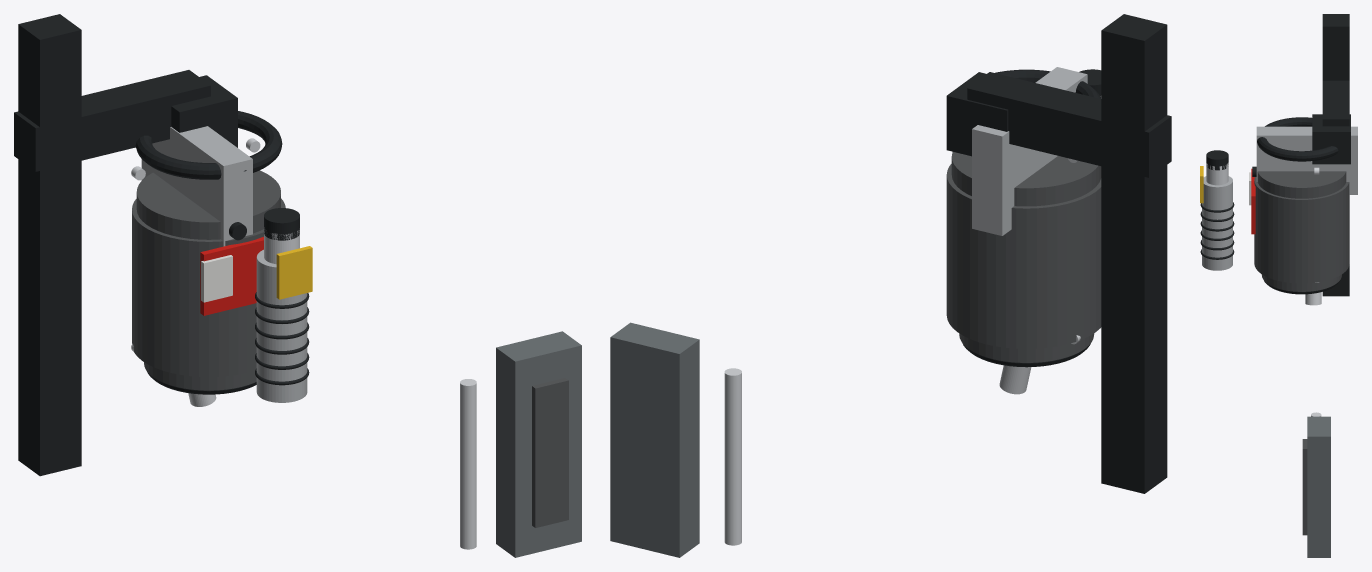
The picture shows the model from 3 angles, left to right: view 1: azimuth 30°, elevation 25°; view 2: azimuth 150°, elevation 25°; view 3: azimuth 270°, elevation 25°; orthographic projection. The views are drawn at different scales.
Visible parts, largest first — view 1: Wall Mount Vertical, Motor Body, Accessory Box, Wall Mount Horizontal, Motor Side Handle, Box Inner Component, Handpiece Body, Motor Top, Motor Top Ring, Tool Holder Rod, Motor Hook, Red Motor Label (+5 smaller); view 2: Wall Mount Vertical, Motor Body, Accessory Box, Wall Mount Horizontal, Motor Side Handle, Motor Top, Tool Holder Rod, Motor Hook, Motor Bottom, Handpiece Tip, Motor Top Ring; view 3: Motor Body, Accessory Box, Motor Side Handle, Handpiece Body, Wall Mount Vertical, Motor Top, Motor Hook, Wall Mount Horizontal, Motor Top Ring, Motor Bottom, Box Inner Component, Handpiece Neck (+2 smaller).
Boxes of the visible parts, x1,y1,x2,y2 form: Wall Mount Vertical: [18, 14, 81, 476]; Motor Body: [132, 198, 285, 377]; Accessory Box: [496, 331, 581, 557]; Wall Mount Horizontal: [14, 70, 210, 171]; Motor Side Handle: [141, 126, 252, 246]; Box Inner Component: [532, 378, 568, 527]; Handpiece Body: [256, 249, 307, 402]; Motor Top: [136, 170, 280, 239]; Motor Top Ring: [135, 111, 282, 179]; Tool Holder Rod: [460, 379, 476, 549]; Motor Hook: [171, 75, 237, 147]; Red Motor Label: [200, 237, 263, 315]; Wall Mount Vertical: [1101, 14, 1167, 493]; Motor Body: [946, 164, 1101, 348]; Accessory Box: [610, 322, 699, 557]; Wall Mount Horizontal: [967, 72, 1171, 177]; Motor Side Handle: [972, 67, 1087, 235]; Motor Top: [951, 152, 1101, 206]; Tool Holder Rod: [724, 368, 741, 545]; Motor Hook: [946, 72, 1008, 156]; Motor Bottom: [959, 333, 1094, 362]; Handpiece Tip: [999, 365, 1031, 394]; Motor Top Ring: [995, 69, 1100, 98]; Motor Body: [1254, 177, 1349, 283]; Accessory Box: [1307, 416, 1330, 557]; Motor Side Handle: [1256, 126, 1357, 194]; Handpiece Body: [1202, 176, 1232, 270]; Wall Mount Vertical: [1322, 14, 1349, 296]; Motor Top: [1257, 171, 1346, 198]; Motor Hook: [1312, 114, 1350, 164]; Wall Mount Horizontal: [1322, 80, 1349, 126]; Motor Top Ring: [1257, 117, 1338, 161]; Motor Bottom: [1261, 274, 1341, 291]; Box Inner Component: [1302, 439, 1307, 535]; Handpiece Neck: [1206, 162, 1228, 185].
Bounding box in the file's own units: 2.56 × 2.85 × 1.06.
